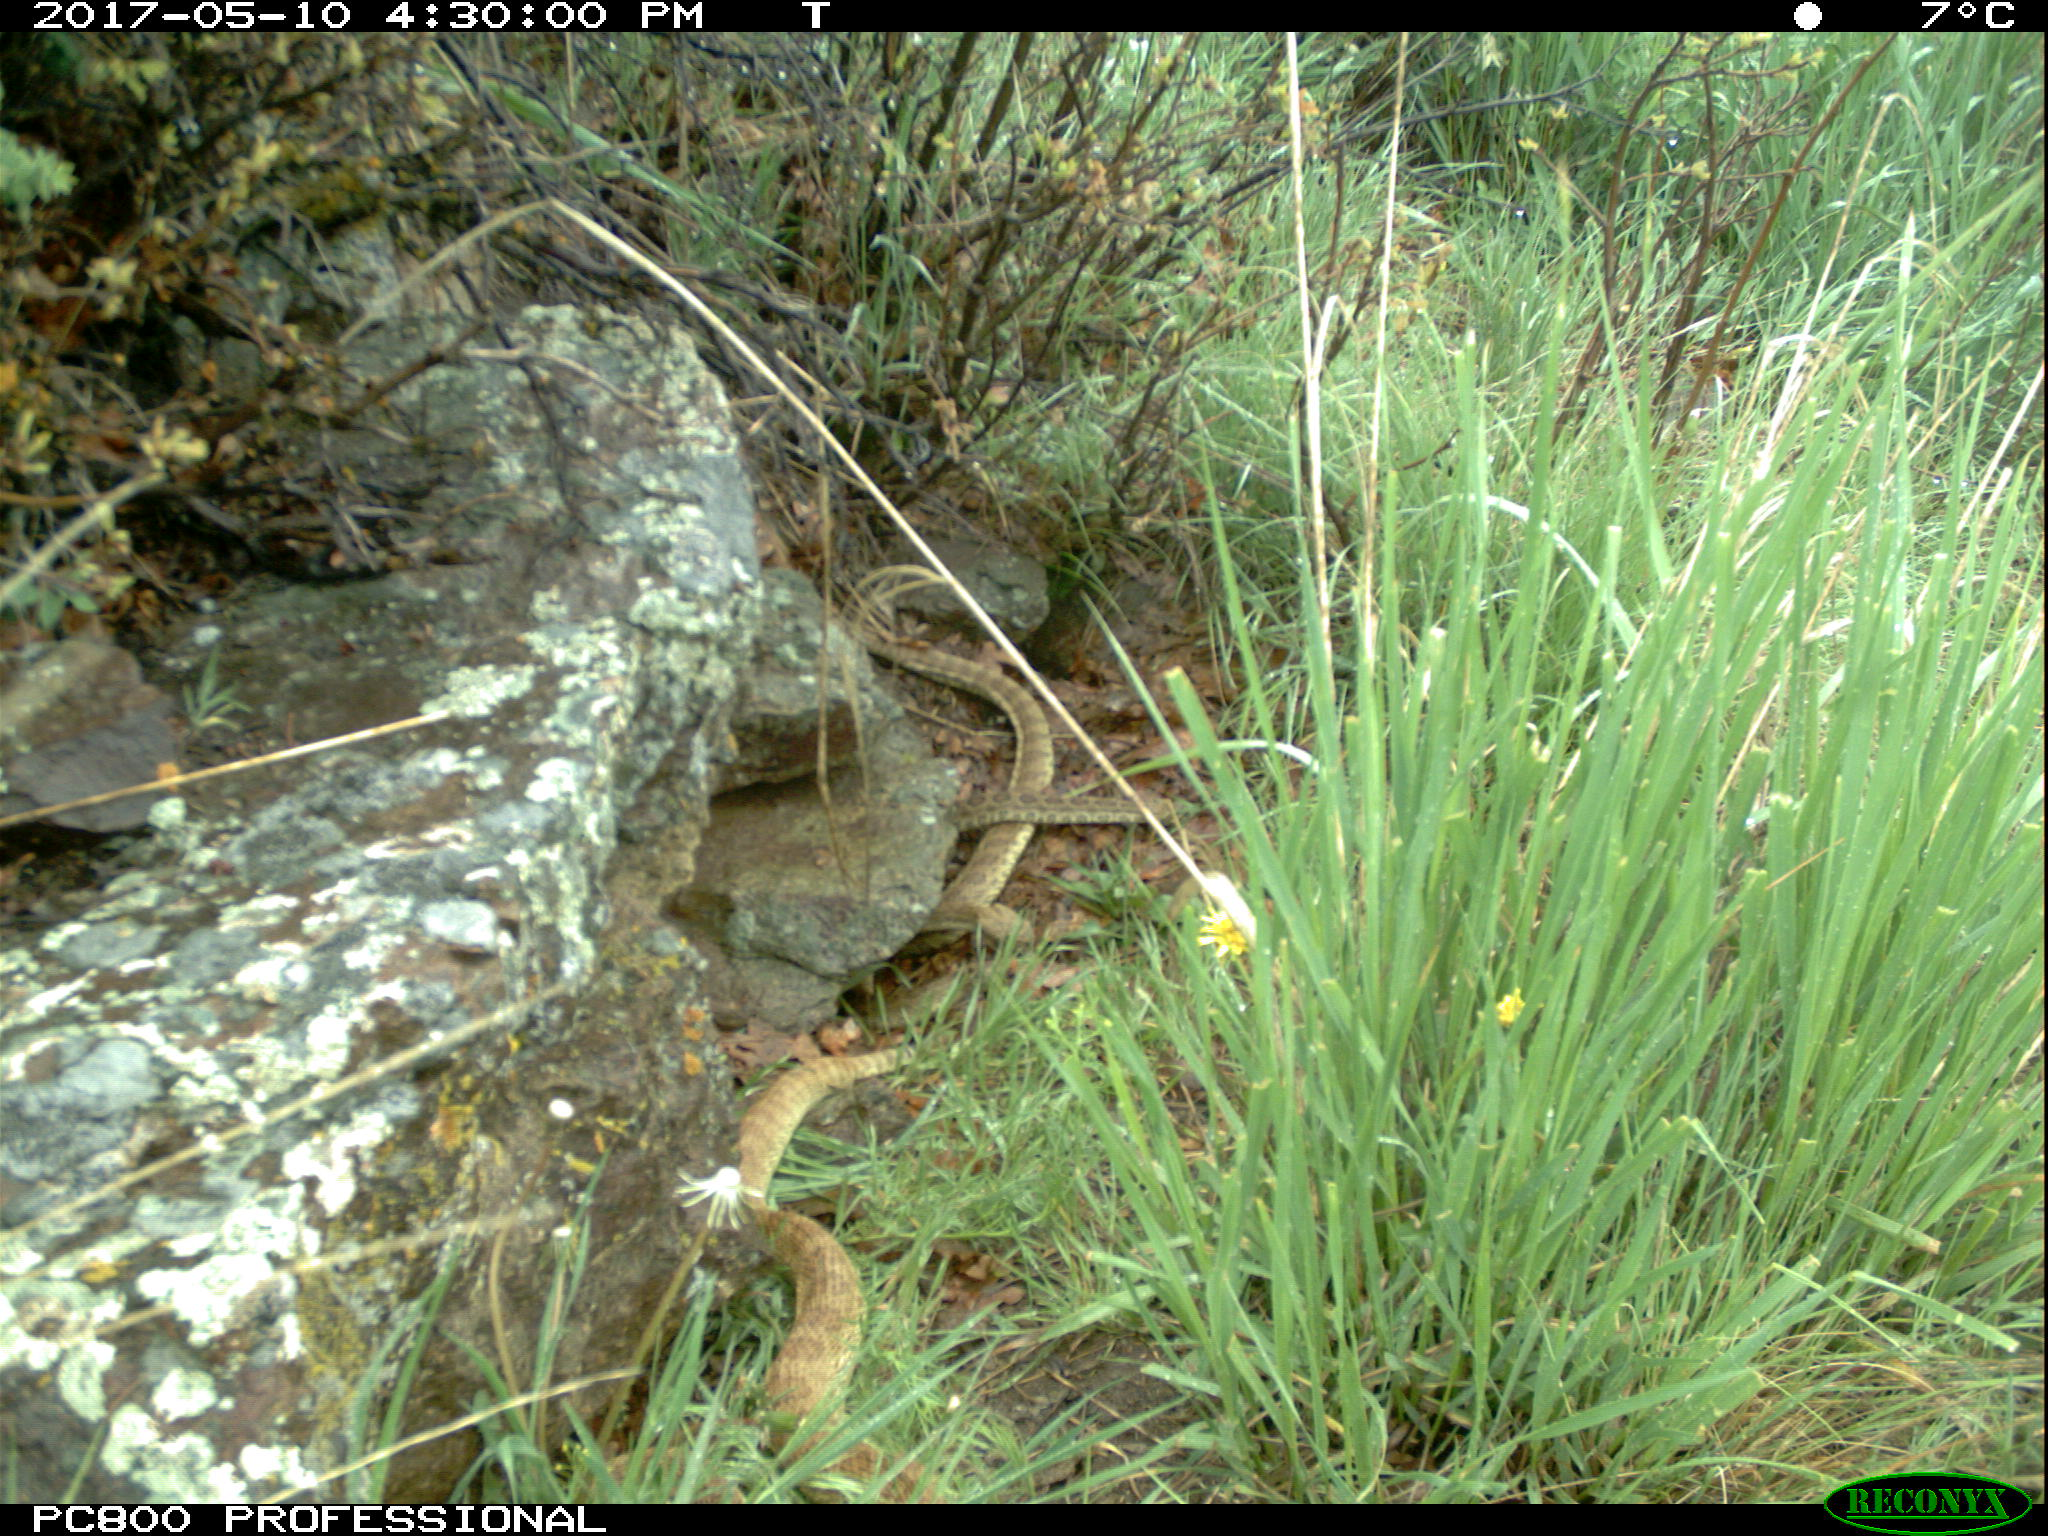snake: (734, 1042, 945, 1504), (855, 624, 1034, 955), (945, 789, 1188, 836)
